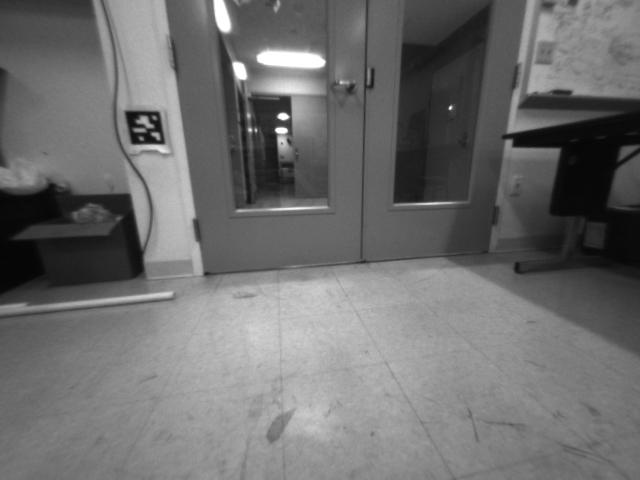door_handle: (327, 76, 357, 98)
